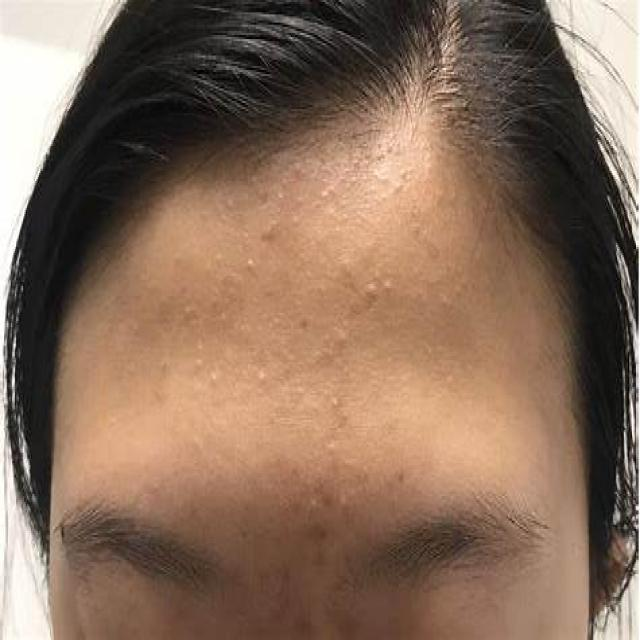fungal: (152, 268, 412, 534)
